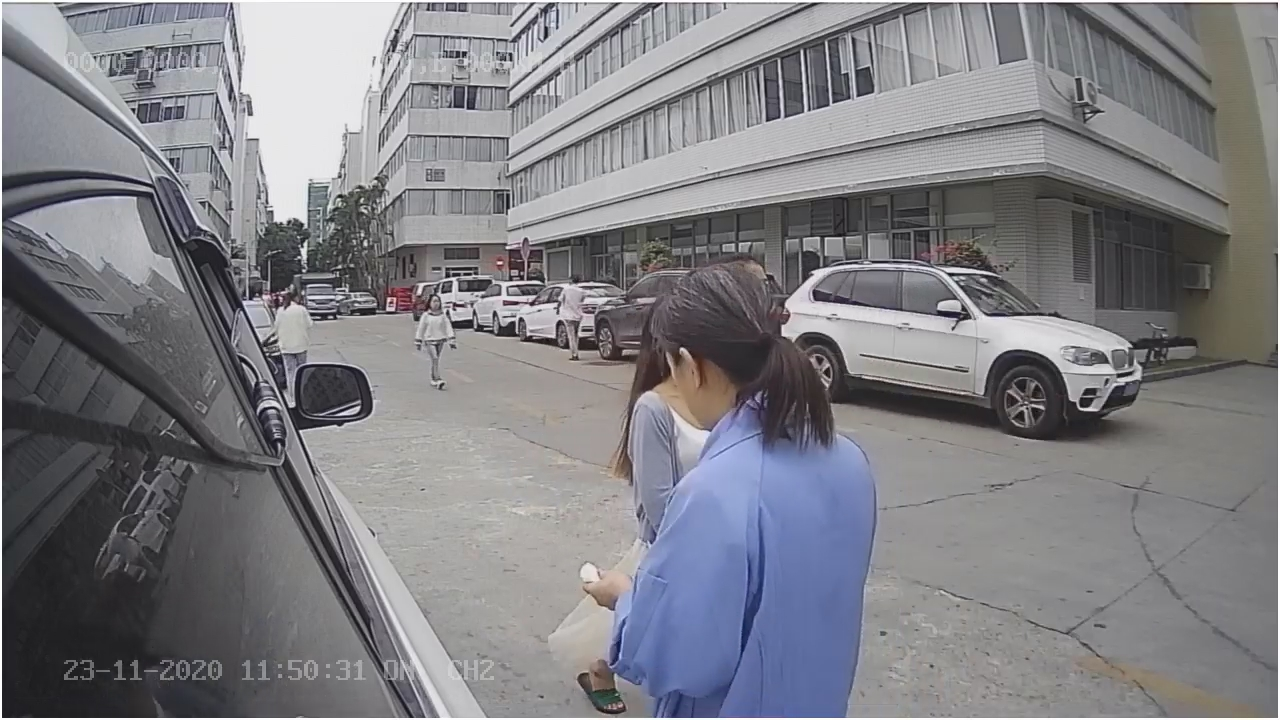person: (580, 254, 880, 666)
